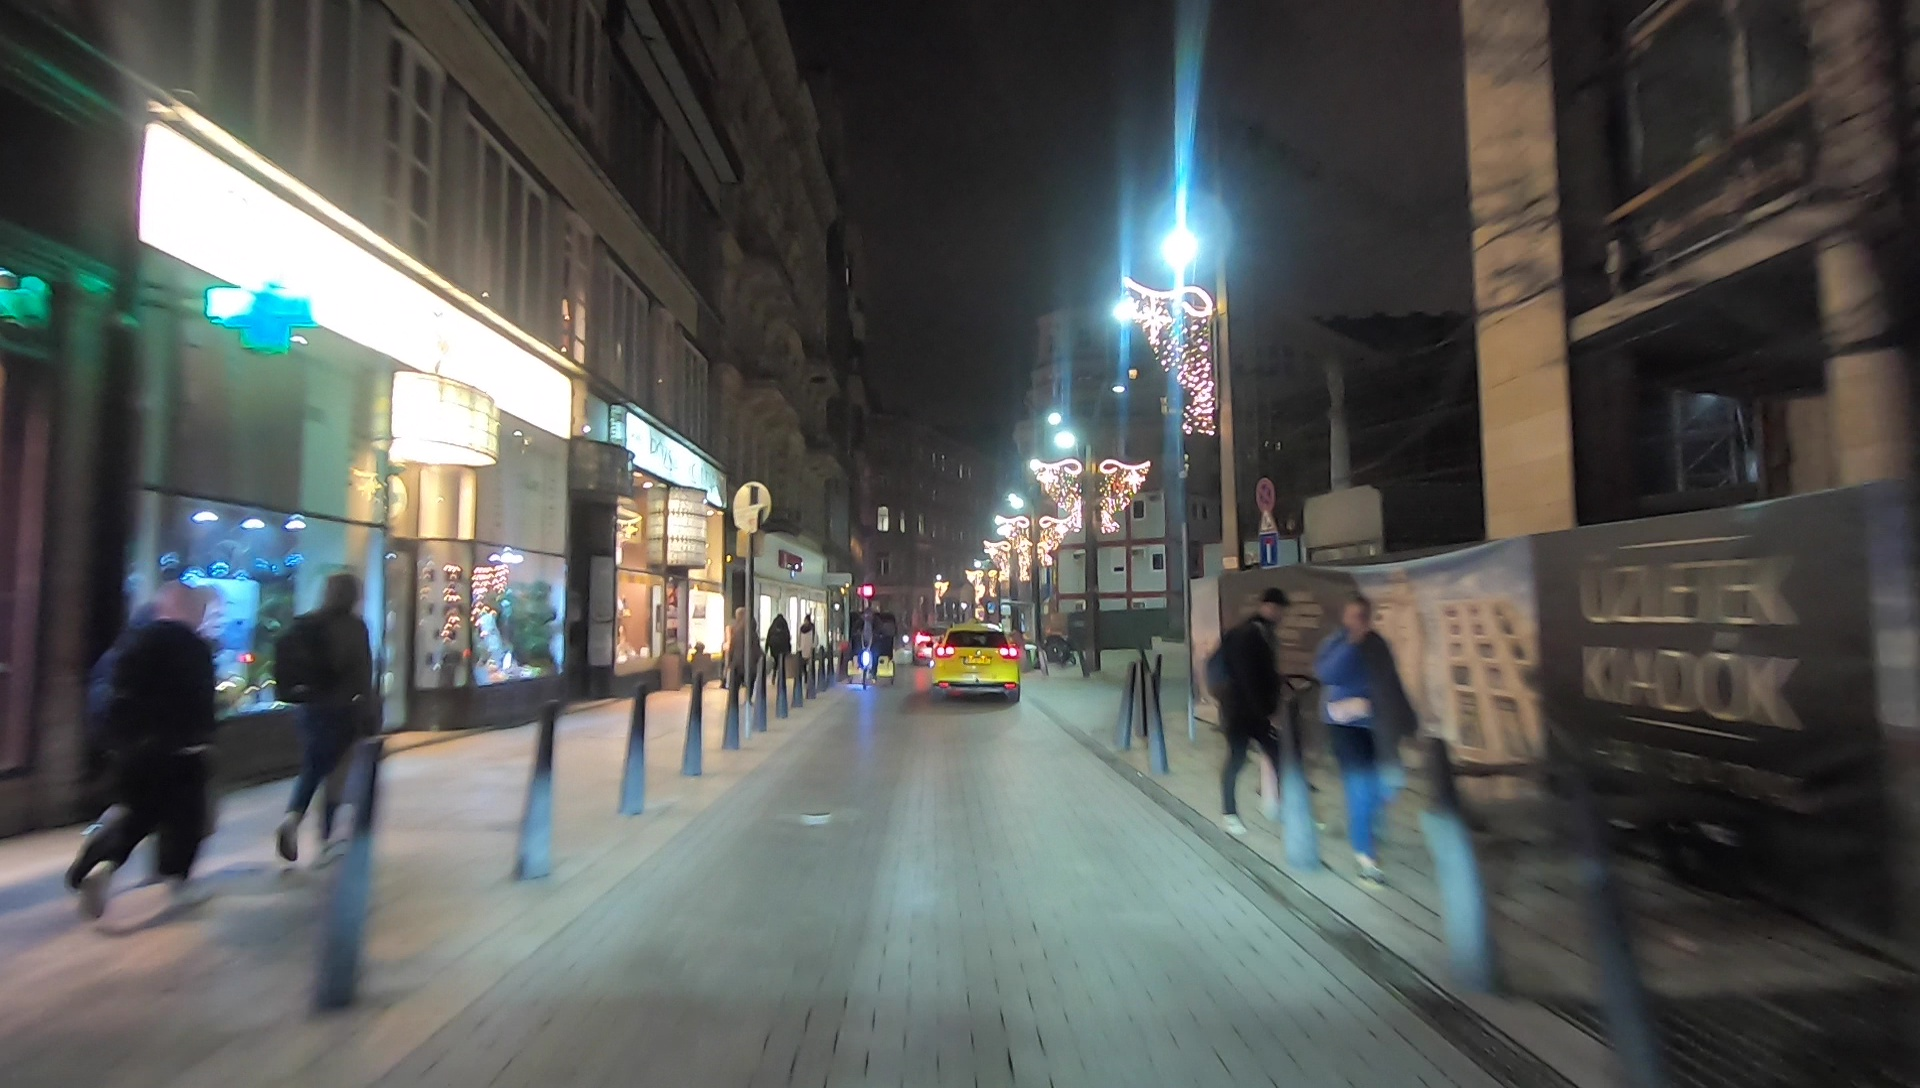person: (86, 587, 221, 915), (267, 574, 378, 869), (1206, 584, 1317, 837), (1315, 606, 1415, 880), (729, 605, 759, 711), (764, 613, 788, 682), (798, 615, 817, 672)
